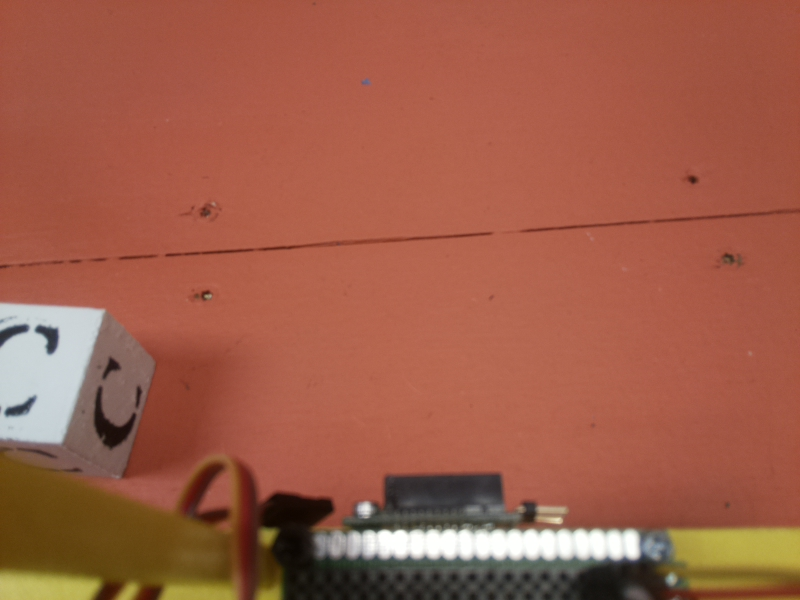blockC: (1, 300, 165, 491)
